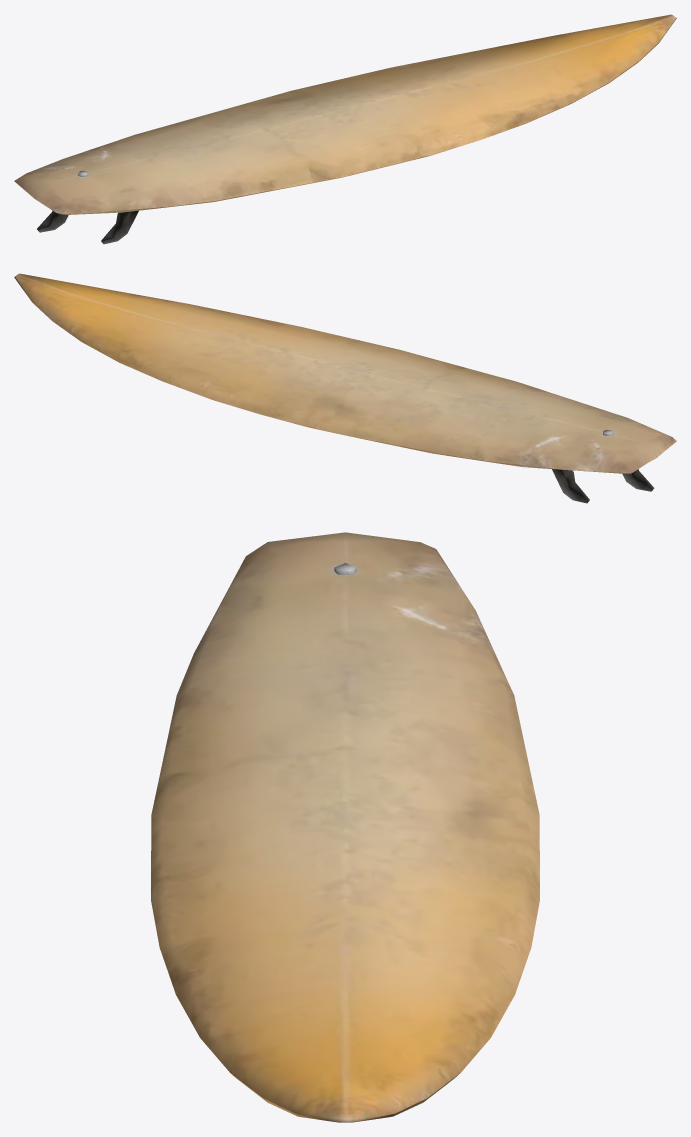
Rendered from surfboard_e.glb.
3 renders of one model, top to bottom at view 1: azimuth 30°, elevation 25°; view 2: azimuth 150°, elevation 25°; view 3: azimuth 270°, elevation 25°, orthographic. The views are drawn at different scales.
Parts seen in each view (by area): view 1: surfboard_e; view 2: surfboard_e; view 3: surfboard_e.
Boxes of the visible parts, bbox=[...] form: surfboard_e: bbox=[14, 14, 676, 244]; surfboard_e: bbox=[14, 273, 676, 503]; surfboard_e: bbox=[151, 532, 539, 1122].
Bounding box in the file's own units: 2.85 × 0.2743 × 0.7479.
1 material, 1 textured.
